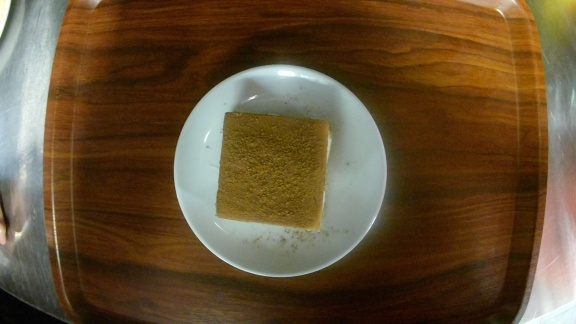tiramisu: (175, 64, 387, 276)
